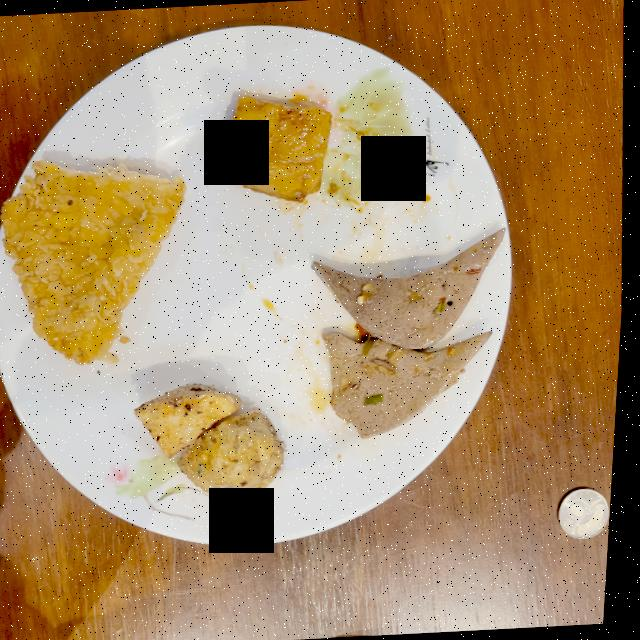coin: (565, 489, 616, 539)
creamy tofu: (225, 97, 334, 202)
fried chicken cutlet: (5, 160, 189, 364)
fried potato: (139, 383, 291, 502)
pig liver: (316, 228, 508, 439)
